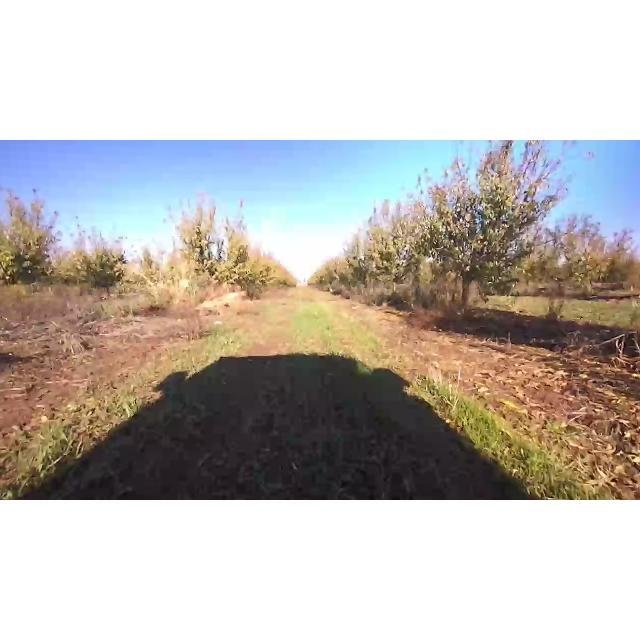direk: (410, 146, 578, 324), (358, 194, 447, 310), (154, 181, 238, 297)
